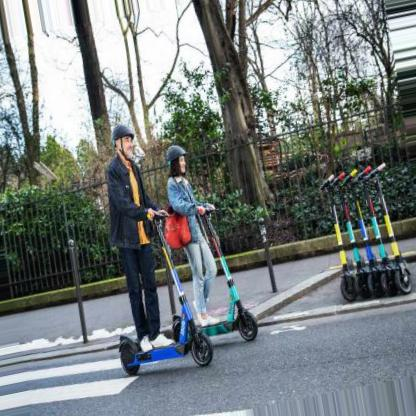scooter: (120, 213, 214, 377), (170, 201, 258, 352)
with helmet: (111, 125, 137, 165), (164, 144, 188, 180)
